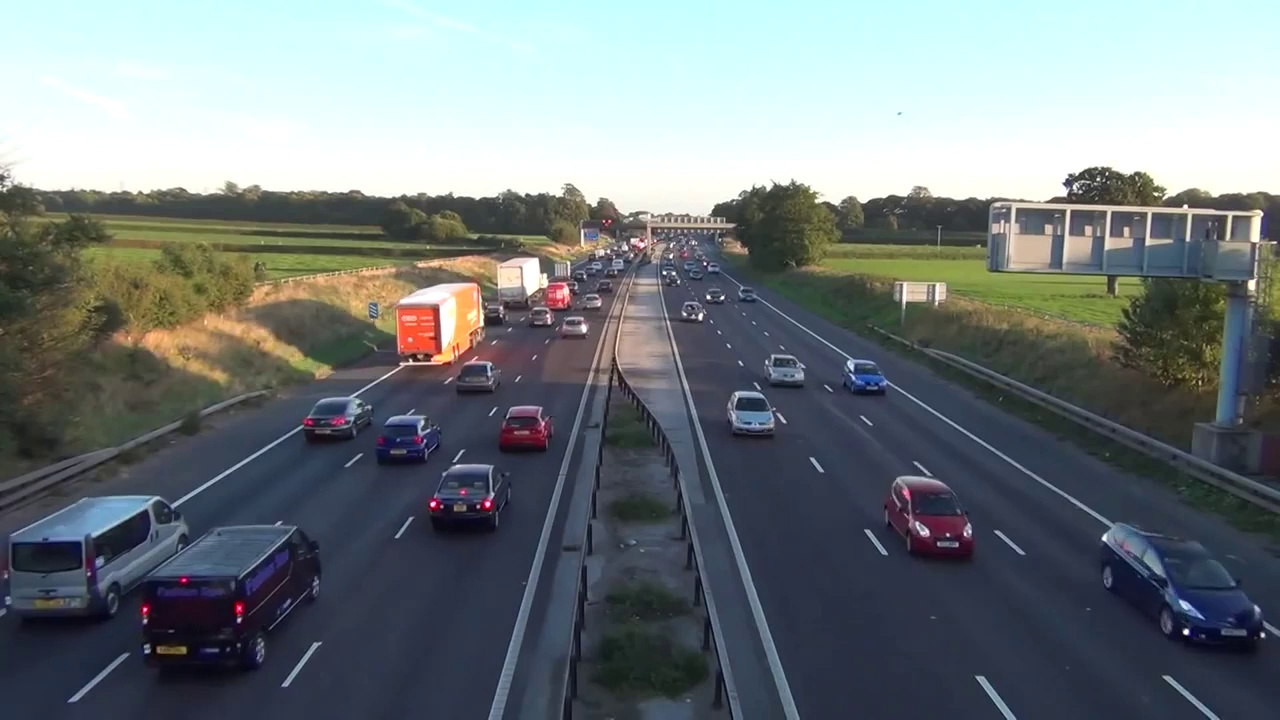bus: (1090, 514, 1266, 658), (886, 466, 981, 564), (426, 458, 518, 534), (373, 408, 444, 470), (297, 394, 381, 446), (492, 401, 562, 453), (719, 387, 781, 440), (840, 351, 893, 400), (452, 355, 508, 396), (762, 351, 814, 395), (560, 314, 593, 339), (526, 306, 558, 329), (680, 299, 707, 326), (481, 303, 512, 326), (736, 284, 759, 305), (594, 277, 616, 295), (704, 287, 726, 304), (582, 294, 602, 310), (539, 271, 550, 293), (664, 274, 681, 287), (565, 281, 580, 294), (688, 268, 703, 281), (683, 260, 697, 273), (583, 265, 597, 277), (662, 266, 676, 278), (573, 270, 586, 281), (605, 266, 617, 277), (708, 262, 719, 274), (591, 261, 602, 269)
car: (392, 283, 487, 370), (496, 255, 543, 310), (553, 259, 576, 281)
lorry: (141, 523, 324, 672), (6, 493, 196, 623), (544, 280, 574, 310), (612, 258, 625, 271)
